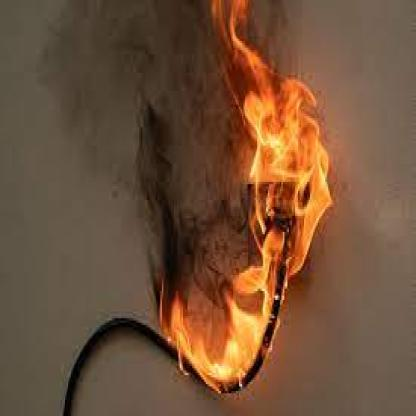fire: (165, 0, 338, 400)
smoke: (31, 0, 259, 343)
